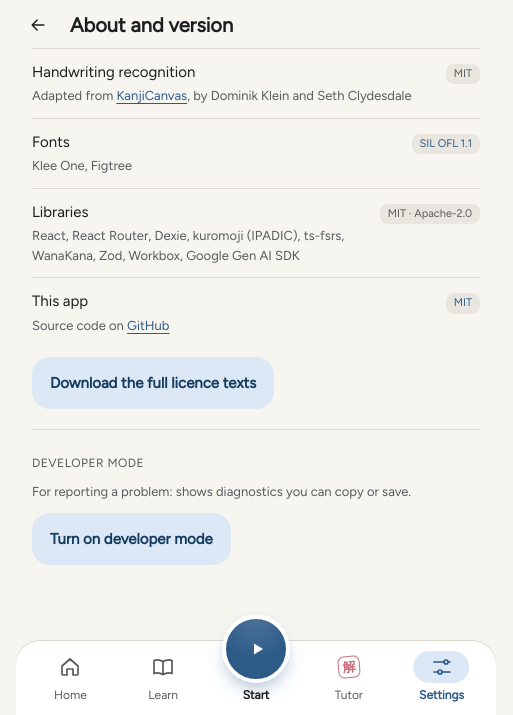
Test case: About → Developer mode › turns off again, hiding the diagnostics
(page scrolled)
Click the button "Turn on developer mode".
click(131, 539)  # box [32,513,231,565]
(page scrolled)
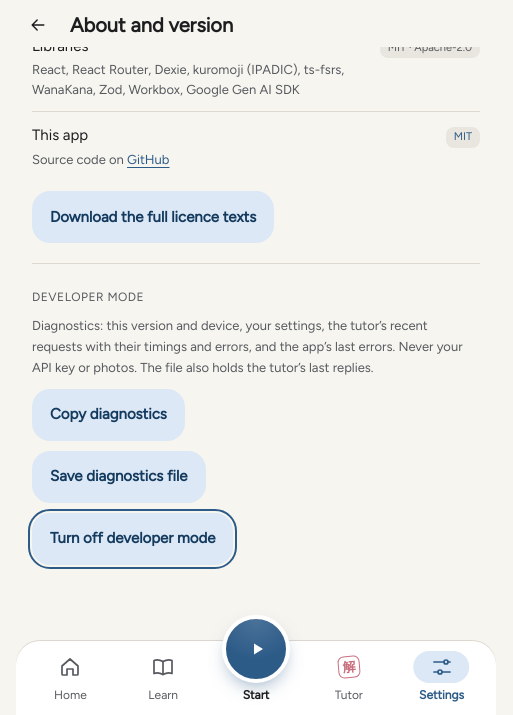
Check: the button "Turn off developer mode" is pressed
Click the button "Turn off developer mode".
click(133, 539)  # box [32,513,233,565]
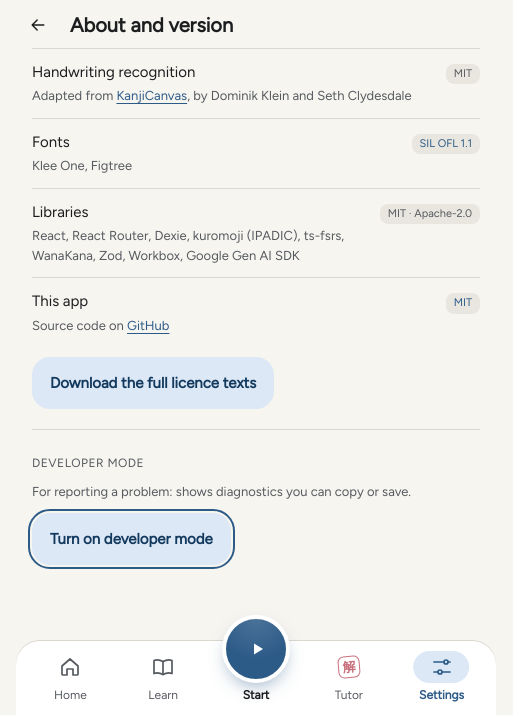
Check: the button "Copy diagnostics" is gone
